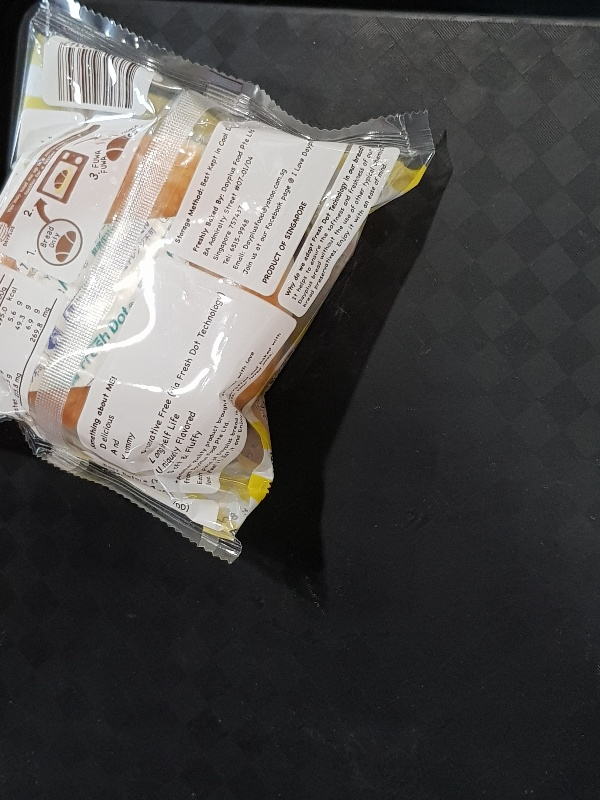Dayplus Banana: (1, 1, 436, 566)
